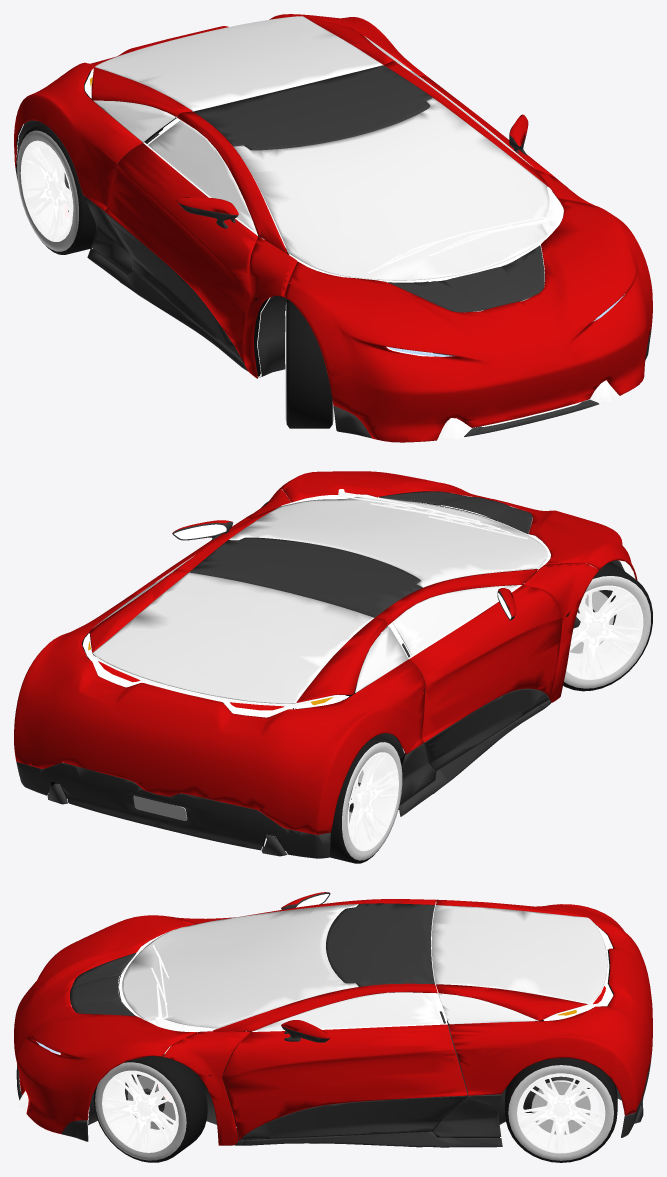
Rendered from carconcept.glb.
The picture shows the model from 3 angles, top to bottom: view 1: azimuth 30°, elevation 25°; view 2: azimuth 150°, elevation 25°; view 3: azimuth 270°, elevation 25°; orthographic projection. The views are drawn at different scales.
Parts seen in each view (by area): view 1: BodyHood, BodyWindshield, BodyRearwindow, BodyDoorRColor1, BodyRearPanelsColor1, BodyRoofPanel, BodyPillars, BodyPanelsColor2, BodyHoodTopgrill, WheelFrontR, BodyDoorRWindow, WheelRearRRim (+9 smaller); view 2: BodyRearPanelsColor1, BodyRearwindow, BodyWindshield, BodyDoorRColor1, BodyPanelsColor2, BodyRoofPanel, BodyHood, BodyPillars, WheelFrontRRim, BodyDoorRColor2, WheelRearRRim, BodyDoorRWindow (+8 smaller); view 3: BodyWindshield, BodyRearPanelsColor1, BodyDoorLColor1, BodyHood, BodyRearwindow, BodyRoofPanel, BodyPillars, BodyDoorLColor2, BodyPanelsColor2, WheelFrontL, WheelRearLRim, WheelFrontLRim (+12 smaller).
Part boxes in pixels (<box>): BodyHood: <box>284,198,652,442</box>; BodyWindshield: <box>234,98,549,280</box>; BodyRearwindow: <box>94,16,382,111</box>; BodyDoorRColor1: <box>104,143,257,363</box>; BodyRearPanelsColor1: <box>14,14,429,210</box>; BodyRoofPanel: <box>193,65,432,150</box>; BodyPillars: <box>177,61,598,378</box>; BodyPanelsColor2: <box>15,166,651,438</box>; BodyHoodTopgrill: <box>388,245,544,312</box>; WheelFrontR: <box>285,299,333,428</box>; BodyDoorRWindow: <box>148,120,257,234</box>; WheelRearRRim: <box>20,140,73,241</box>; BodyRearPanelsColor1: <box>14,569,425,834</box>; BodyRearwindow: <box>92,572,373,703</box>; BodyWindshield: <box>229,497,547,587</box>; BodyDoorRColor1: <box>409,585,562,742</box>; BodyPanelsColor2: <box>16,700,550,858</box>; BodyRoofPanel: <box>189,537,422,617</box>; BodyHood: <box>278,471,637,579</box>; BodyPillars: <box>175,489,598,702</box>; WheelFrontRRim: <box>566,585,643,679</box>; BodyDoorRColor2: <box>424,688,549,769</box>; WheelRearRRim: <box>347,752,398,851</box>; BodyDoorRWindow: <box>392,585,518,655</box>; BodyWindshield: <box>122,904,358,1028</box>; BodyRearPanelsColor1: <box>436,899,652,1115</box>; BodyDoorLColor1: <box>222,1024,467,1140</box>; BodyHood: <box>14,915,196,1133</box>; BodyRearwindow: <box>431,905,607,1004</box>; BodyRoofPanel: <box>326,903,434,986</box>; BodyPillars: <box>163,899,437,1145</box>; BodyDoorLColor2: <box>240,1096,467,1140</box>; BodyPanelsColor2: <box>16,1046,652,1147</box>; WheelFrontL: <box>93,1054,207,1162</box>; WheelRearLRim: <box>517,1073,605,1153</box>; WheelFrontLRim: <box>102,1070,178,1152</box>.
Size of the model in its own units: 2.54 by 1.15 by 4.36.
